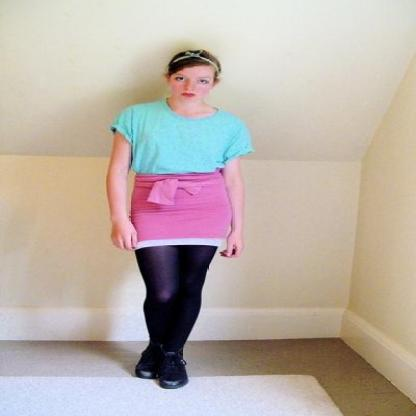shirt: (112, 102, 252, 174)
shoe: (135, 346, 188, 388)
skirt: (129, 168, 236, 256)
